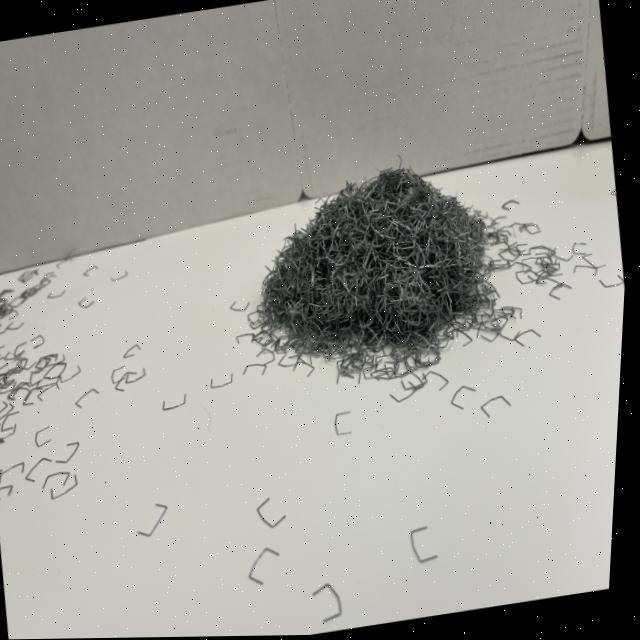staples: (233, 149, 511, 374)
